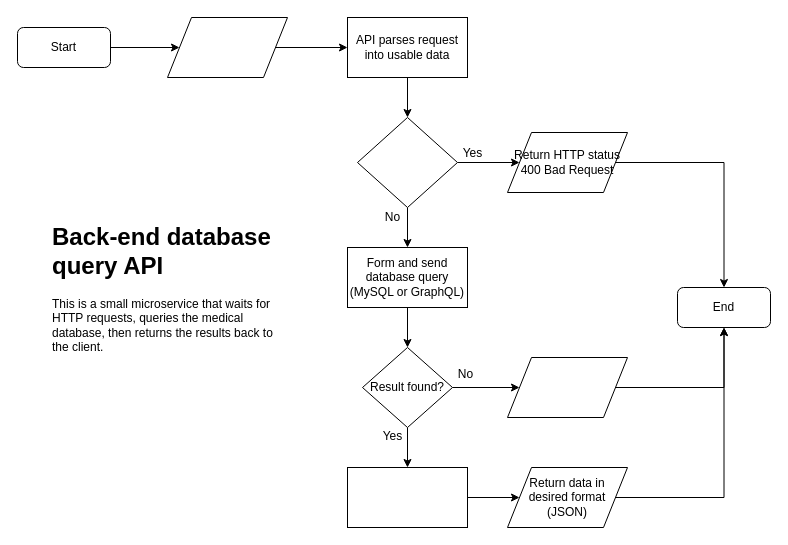
Image size: 788x545. Some labels were removed from this diagram. Here are the shapes that lost their labels. From the top down, the centre of each, then its label:
point 227,47: API receives a request
point 407,162: Is the request malformed?
point 567,387: Return HTTP status 404 Not Found
point 407,497: Prune columns that were not requested
